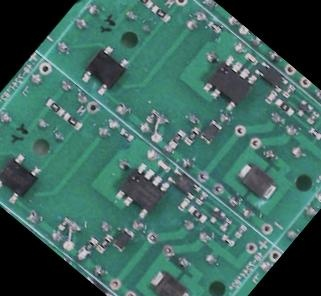chip-capacitor: (242, 50, 259, 66), (262, 88, 277, 104), (175, 195, 190, 211), (155, 157, 171, 172)
chip-resistor: (149, 1, 172, 23), (60, 109, 83, 131), (272, 95, 295, 116), (181, 123, 202, 146), (42, 95, 65, 116), (186, 203, 208, 223), (167, 127, 187, 148), (95, 232, 114, 252), (80, 234, 98, 253), (304, 108, 320, 125), (280, 81, 296, 98), (219, 232, 236, 248), (117, 126, 134, 142), (55, 214, 71, 231), (306, 123, 321, 139), (144, 107, 159, 123), (232, 222, 247, 238), (218, 215, 233, 231), (206, 19, 221, 33), (194, 189, 208, 203), (131, 0, 154, 8)
diode: (233, 157, 279, 202), (146, 265, 192, 296), (110, 224, 136, 251), (197, 117, 222, 143)
ic: (111, 159, 172, 219), (199, 52, 259, 112), (77, 41, 131, 96), (0, 147, 44, 205), (251, 57, 288, 92), (165, 165, 202, 200)
transistor: (205, 204, 227, 225), (292, 97, 313, 118)
